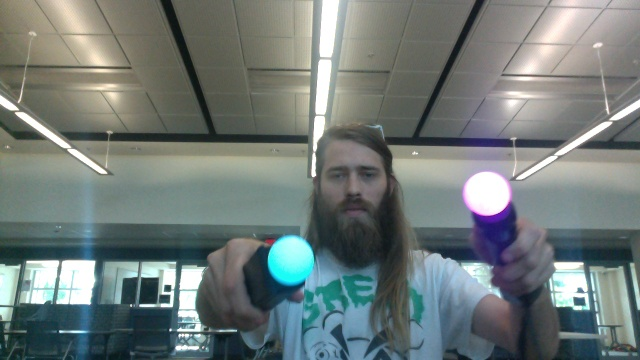wand: (269, 236, 314, 284), (463, 173, 511, 216)
